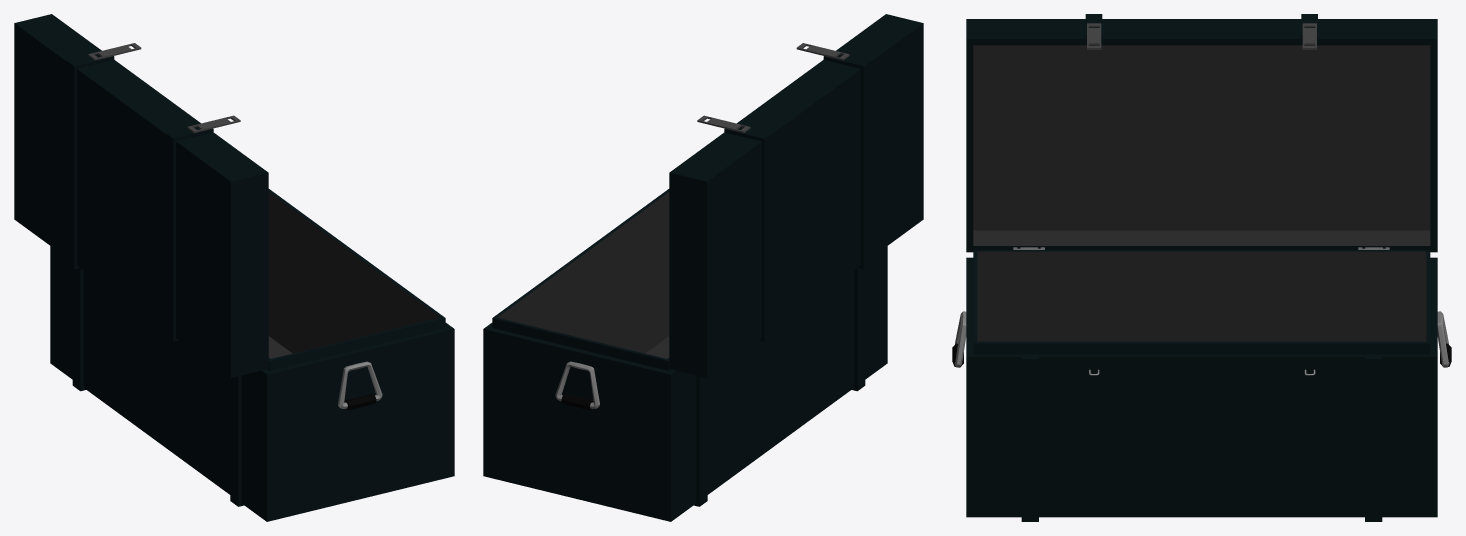
File: StorageCrate_013.glb
3 views of the same model, side by side, from view 1: azimuth 30°, elevation 25°; view 2: azimuth 150°, elevation 25°; view 3: azimuth 270°, elevation 25° (orthographic). The views are drawn at different scales.
Visible parts, largest first — view 1: Mesh_StorageCrate_013; view 2: Mesh_StorageCrate_013; view 3: Mesh_StorageCrate_013.
Boxes of the visible parts, box(x1,y1,x2,y2) form: Mesh_StorageCrate_013: box(14, 14, 454, 521); Mesh_StorageCrate_013: box(483, 14, 923, 521); Mesh_StorageCrate_013: box(952, 14, 1451, 521).
Bounding box in the file's own units: 0.6272 × 0.9086 × 1.06.
1 material, 1 textured.
